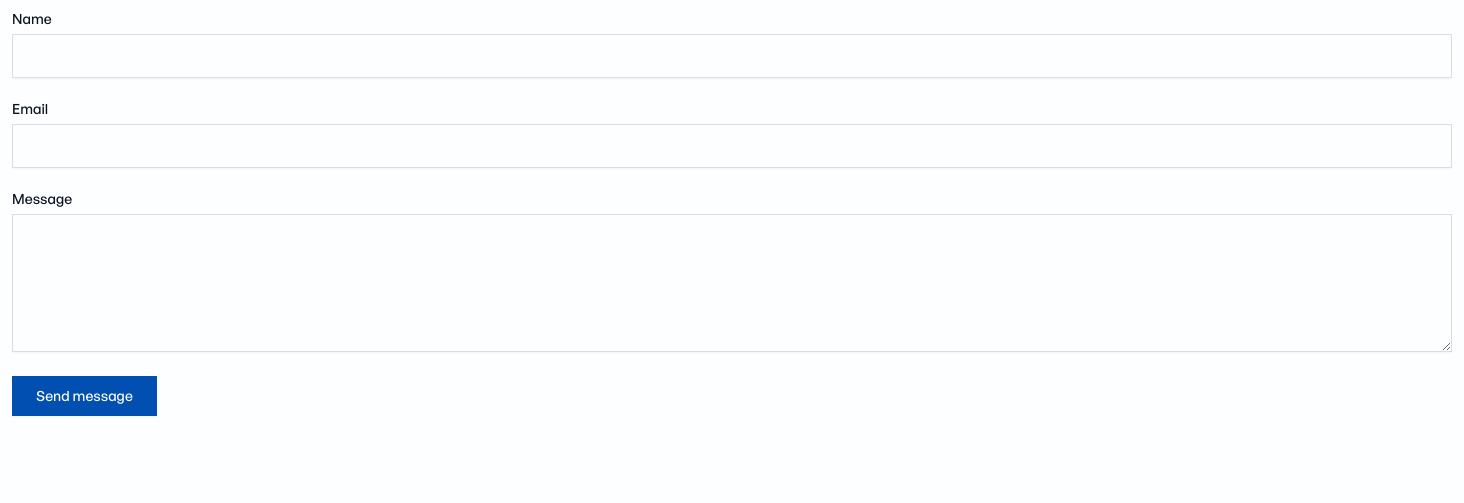
ContactForm › shows an error state when the backend rejects the submission
The width and height of the screenshot is (1464, 503).
Check: the button "Send message" is shown, box [12, 376, 157, 416]
Type "Ada Lovelace" into the field labelled "Name" at coordinates (732, 56), box [12, 34, 1452, 78]
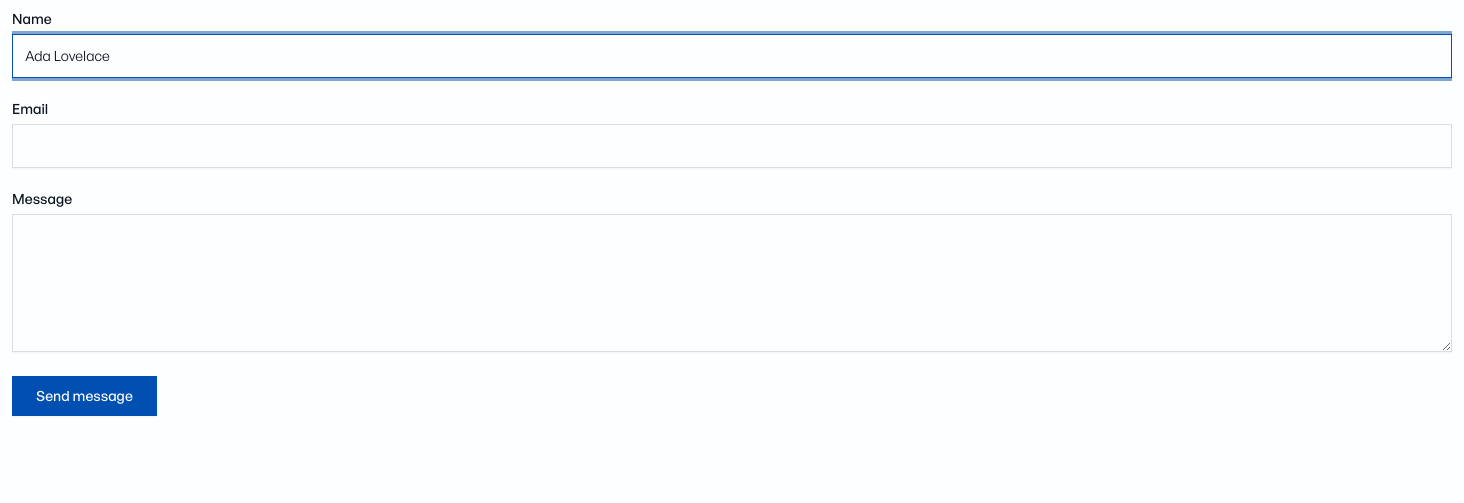
Check: the button "Send message" is shown, box [12, 376, 157, 416]
Type "ada@example.com" into the field labelled "Email" at coordinates (732, 146), box [12, 124, 1452, 168]
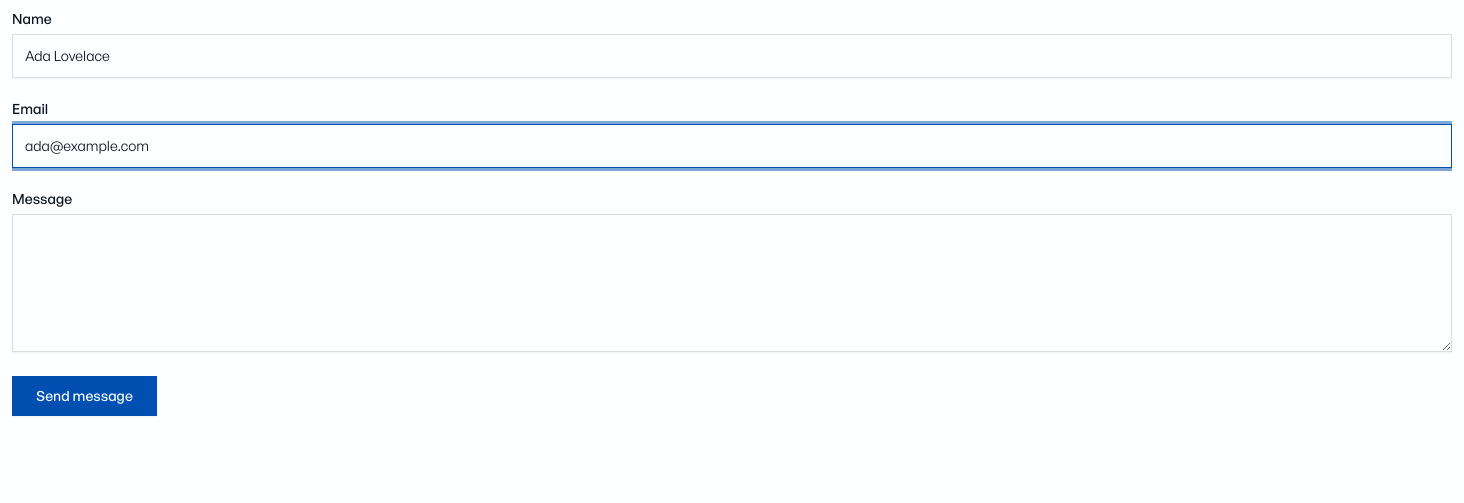
Type "I would like to learn more about your products." into the text box labelled "Message" at coordinates (732, 283), box [12, 214, 1452, 352]
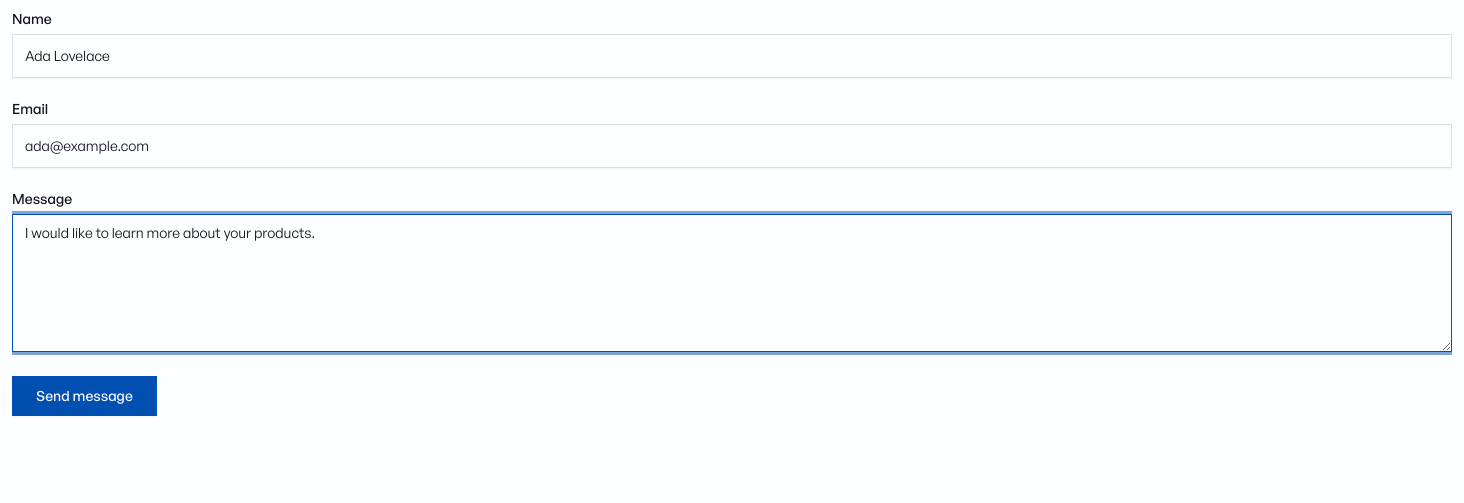
Click the button "Send message" at coordinates (84, 396), box [12, 376, 157, 416]
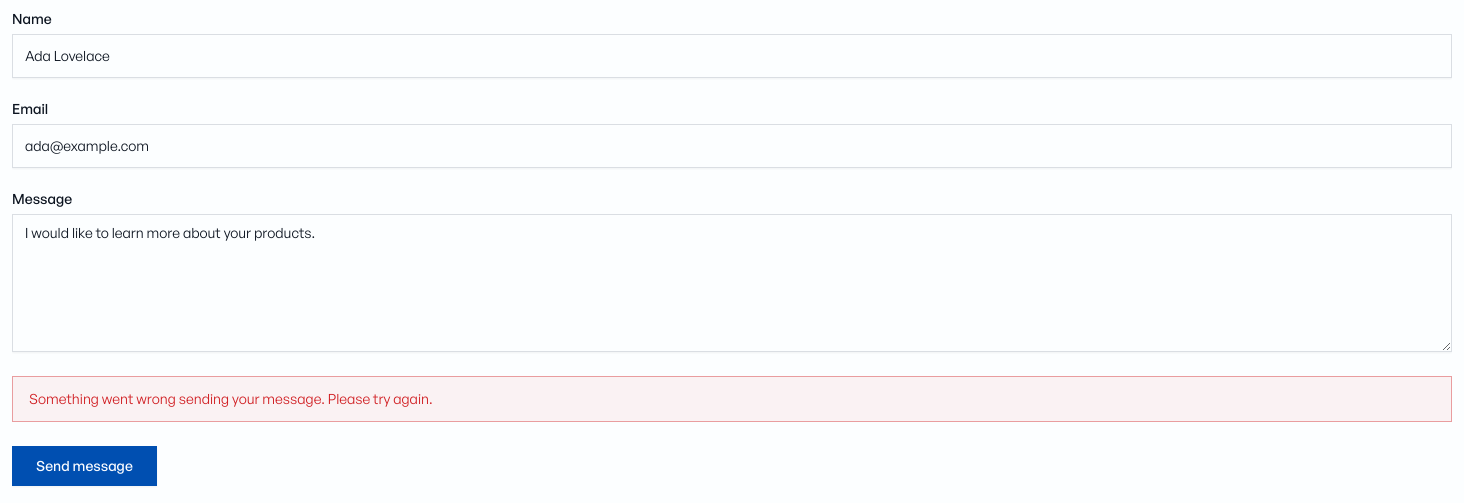
Check: the message "Something went wrong sending your message. Please try again." is shown, box [12, 376, 1452, 422]
